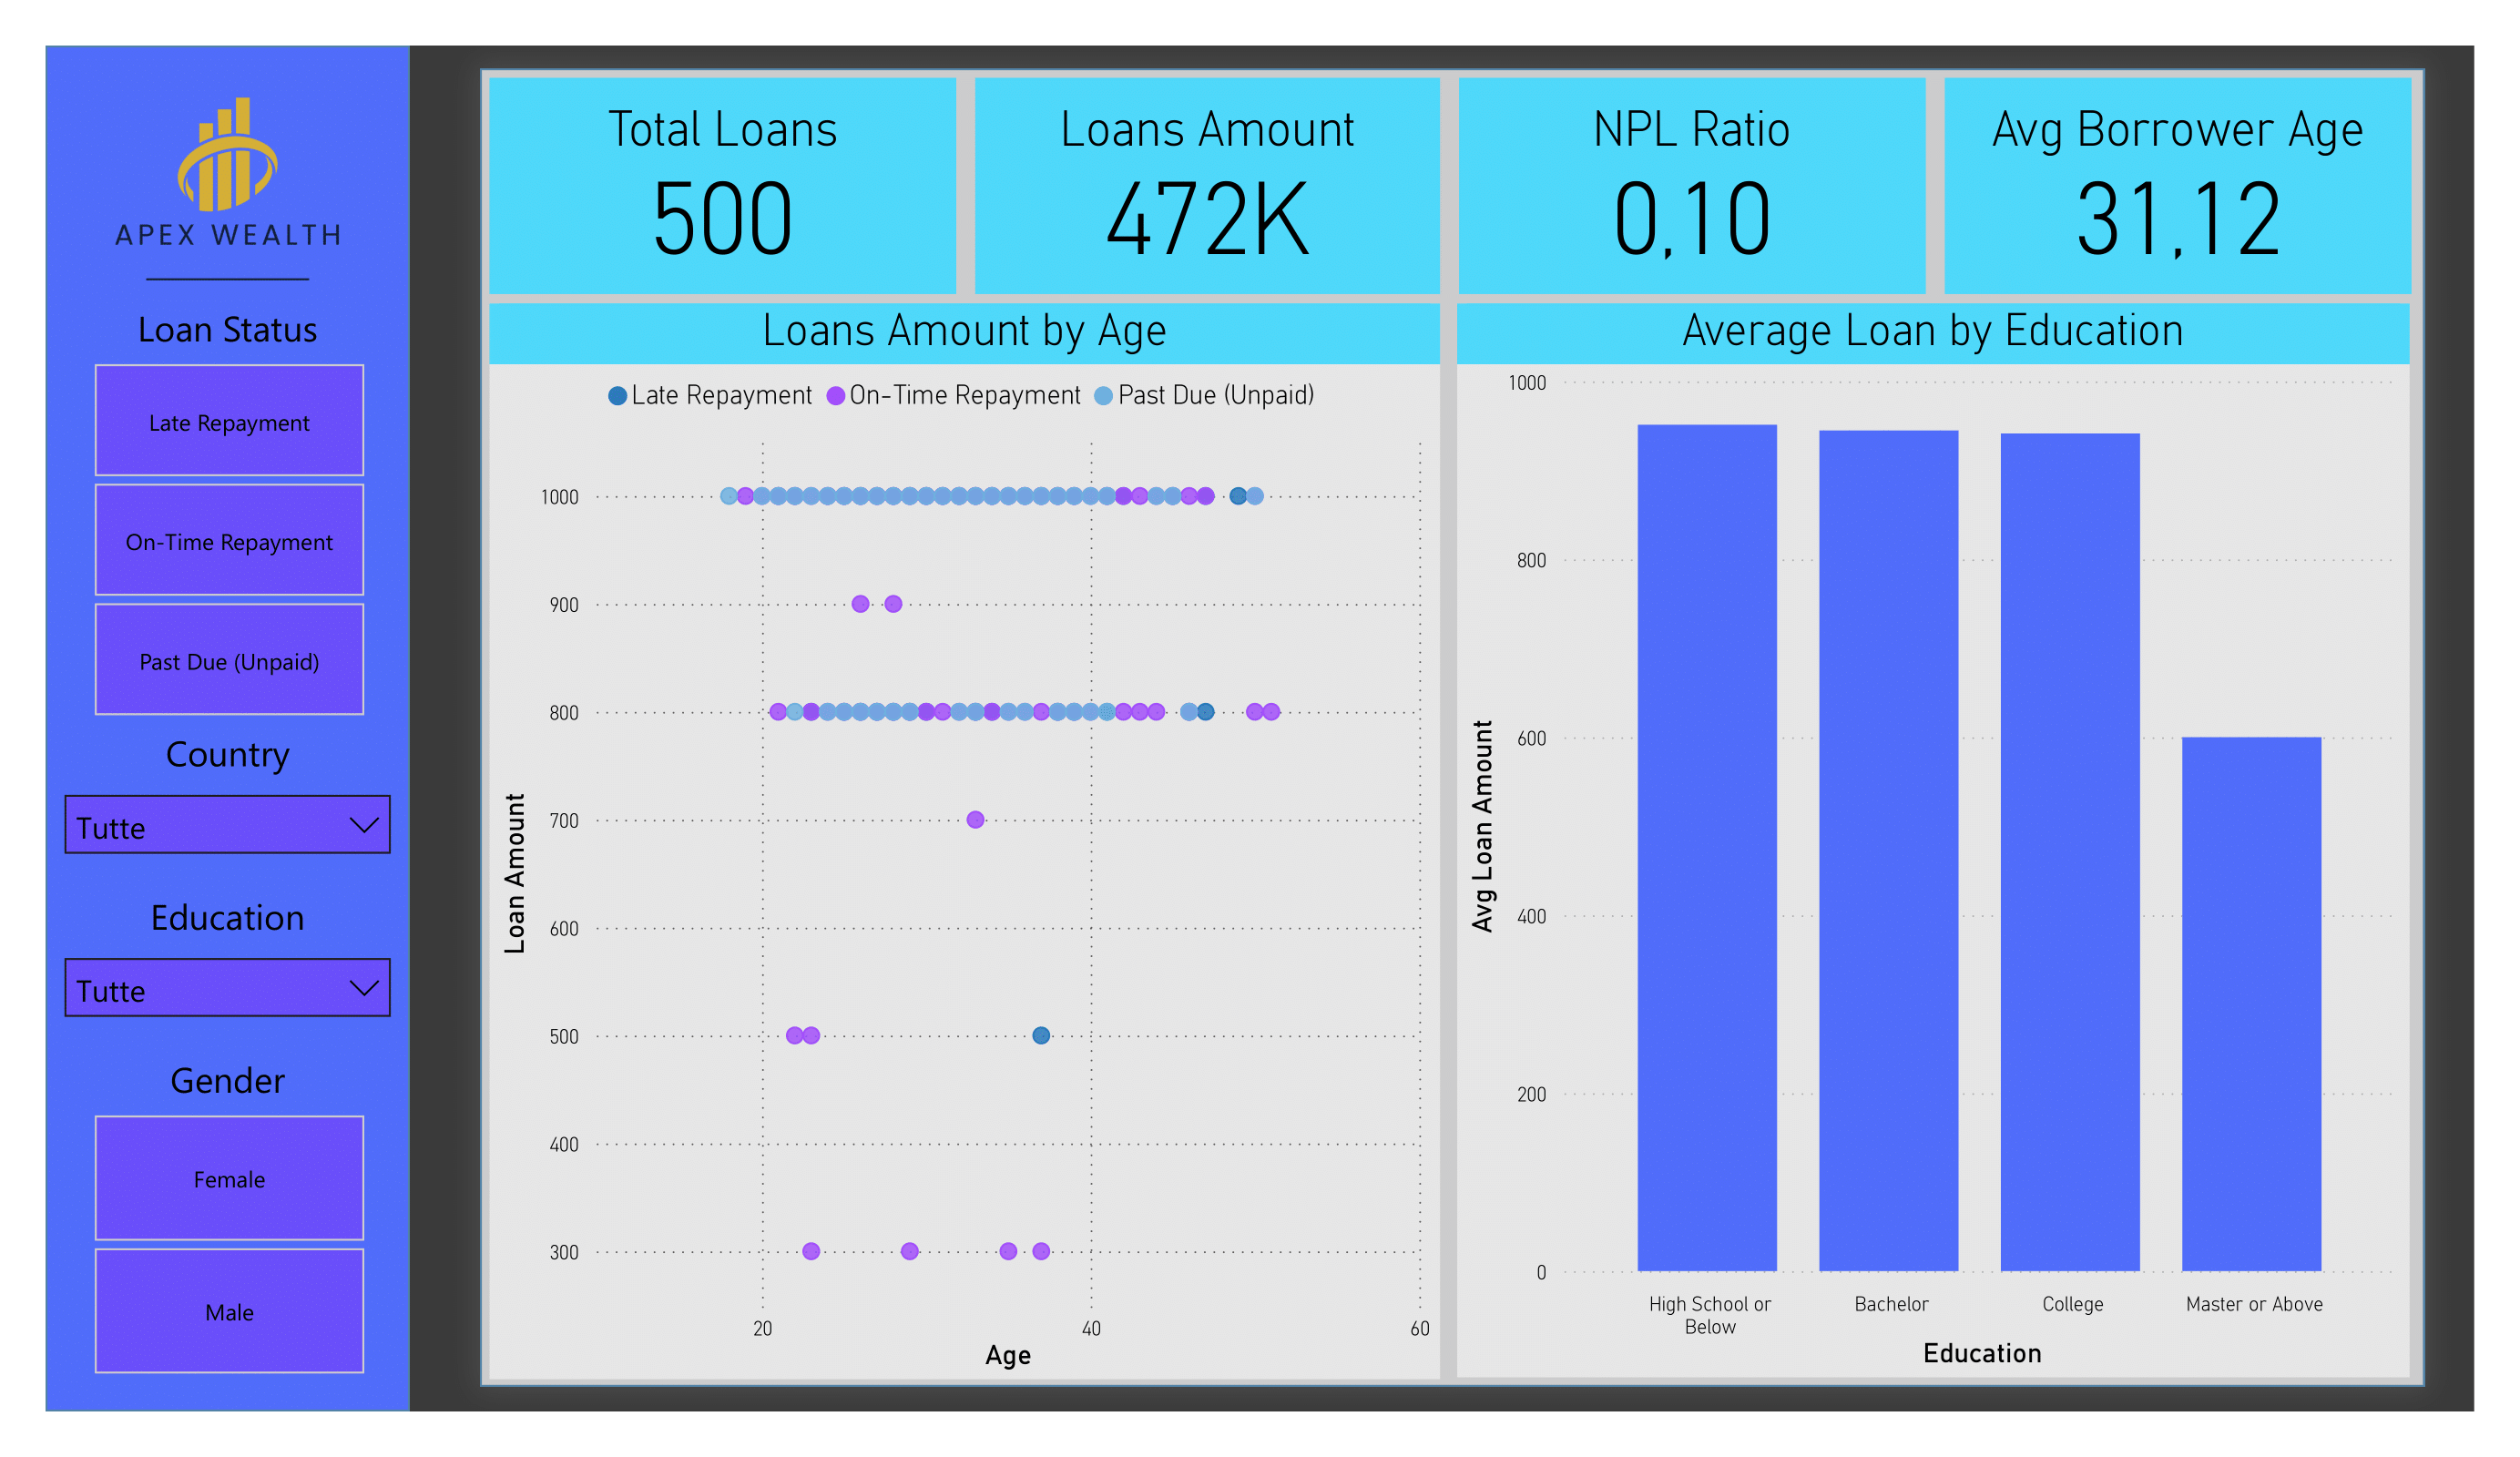

The dashboard page shown, as its layout file describes it:
{"tool":"powerbi","page":{"name":"Pagina 2","canvas":[1280,720],"ordinal":1},"visuals":[{"type":"shape","box":[229.2,12.2,1024.4,694.8],"z":0},{"type":"shape","box":[0,0,192,720.1],"z":1000},{"type":"cardVisual","fields":{"Data":["public loan_analysis_view.Total Loans"]},"box":[229.2,12.2,255.6,123.7],"z":2000},{"type":"cardVisual","fields":{"Data":["public loan_analysis_view.Total Loans Amount"]},"box":[484.8,12.2,255.6,123.7],"z":3000},{"type":"cardVisual","fields":{"Data":["public loan_analysis_view.Average Borrower Age"]},"box":[996,12.2,255.6,123.7],"z":4000},{"type":"cardVisual","fields":{"Data":["public loan_analysis_view.Non Performing Loans Ratio"]},"box":[740.4,12.2,255.6,123.7],"z":5000},{"type":"slicer","title":"Loan Status","fields":{"Values":["public loan_analysis_view.Loan Status Label"]},"box":[0,135.9,191.7,224.2],"z":6000},{"type":"slicer","title":"Country","fields":{"Values":["public loan_analysis_view.country"]},"box":[0,360.1,191.7,86.2],"z":7000},{"type":"slicer","title":"Education","fields":{"Values":["public loan_analysis_view.education"]},"box":[0,446.3,191.7,86.2],"z":8000},{"type":"slicer","title":"Gender","fields":{"Values":["public loan_analysis_view.gender"]},"box":[0,532.5,191.7,174.5],"z":9000},{"type":"scatterChart","title":"Loans Amount by Age","fields":{"Series":["public loan_analysis_view.Loan Status Label"],"Y":["public loan_analysis_view.principal"],"X":["public loan_analysis_view.age"]},"box":[233.5,136.2,501.6,566.5],"z":10000},{"type":"clusteredColumnChart","title":"Average Loan by Education","fields":{"Y":["Avg(public loan_analysis_view.principal)"],"Category":["public loan_analysis_view.education"]},"box":[744.3,136.1,502.1,566],"z":11000},{"type":"image","box":[0,0,192,136],"z":11001}]}

Visuals, with their boxes in screenshot pixels (x1, y1, x2, y2):
shape: box=[481, 68, 2424, 1387]
shape: box=[46, 46, 410, 1411]
cardVisual - public loan_analysis_view.Total Loans: box=[481, 68, 965, 303]
cardVisual - public loan_analysis_view.Total Loans Amount: box=[965, 68, 1451, 303]
cardVisual - public loan_analysis_view.Average Borrower Age: box=[1935, 68, 2421, 303]
cardVisual - public loan_analysis_view.Non Performing Loans Ratio: box=[1451, 68, 1935, 303]
"Loan Status" slicer: box=[46, 303, 409, 728]
"Country" slicer: box=[46, 728, 409, 892]
"Education" slicer: box=[46, 892, 409, 1055]
"Gender" slicer: box=[46, 1055, 409, 1387]
"Loans Amount by Age" scatterChart: box=[489, 304, 1441, 1379]
"Average Loan by Education" clusteredColumnChart: box=[1458, 304, 2411, 1378]
image: box=[46, 46, 410, 303]
